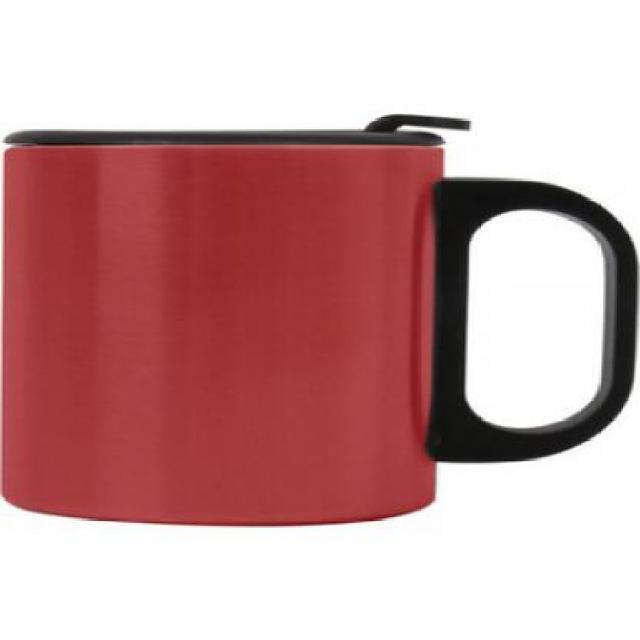taza: (0, 110, 640, 530)
